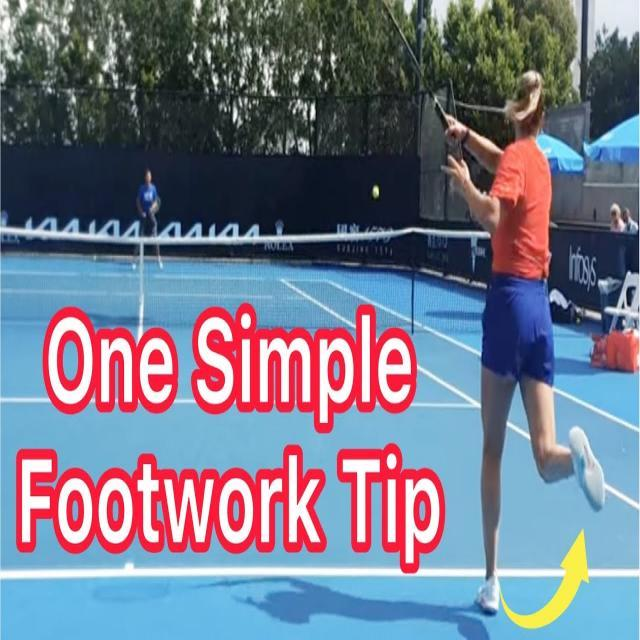net: (3, 215, 524, 324)
player: (417, 9, 607, 624)
